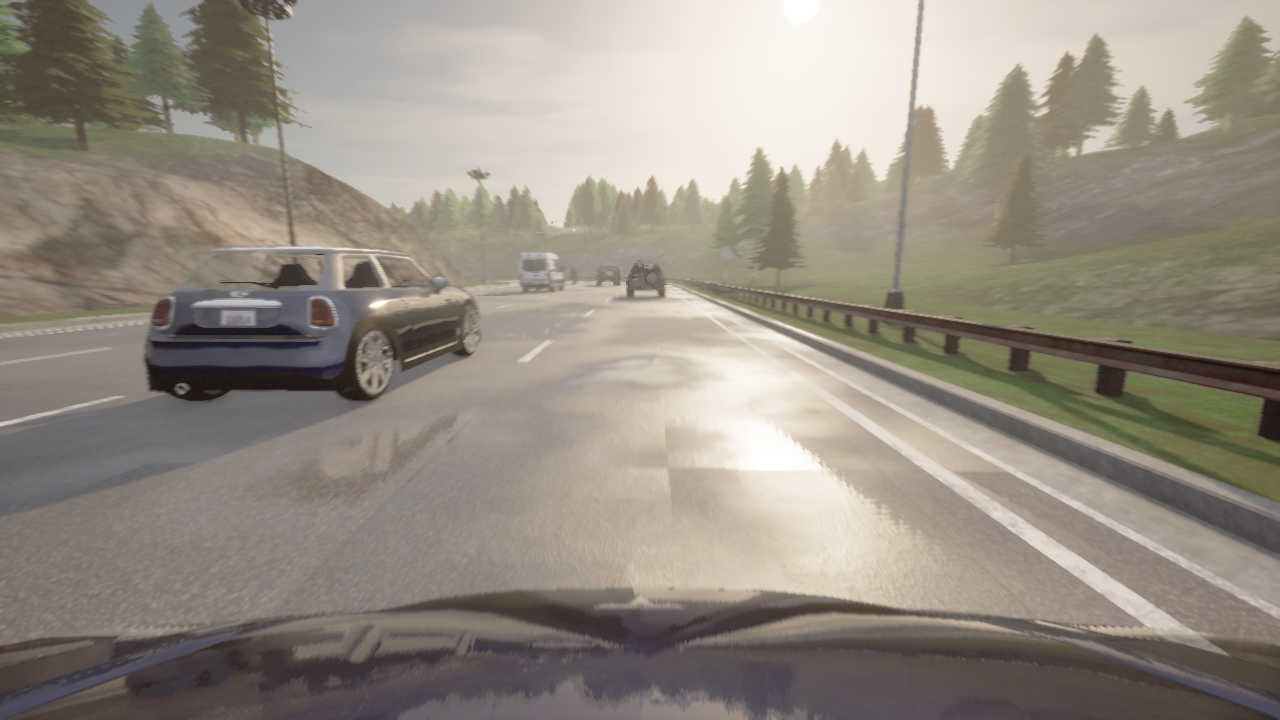cyclist: (0, 588, 1279, 719), (144, 247, 480, 402), (520, 252, 563, 291), (627, 261, 664, 296), (596, 265, 619, 285), (572, 278, 573, 284)
